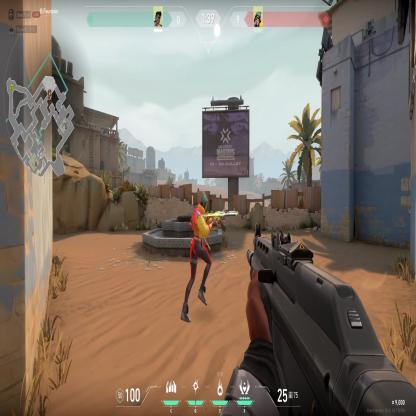enemy: (180, 187, 218, 323)
